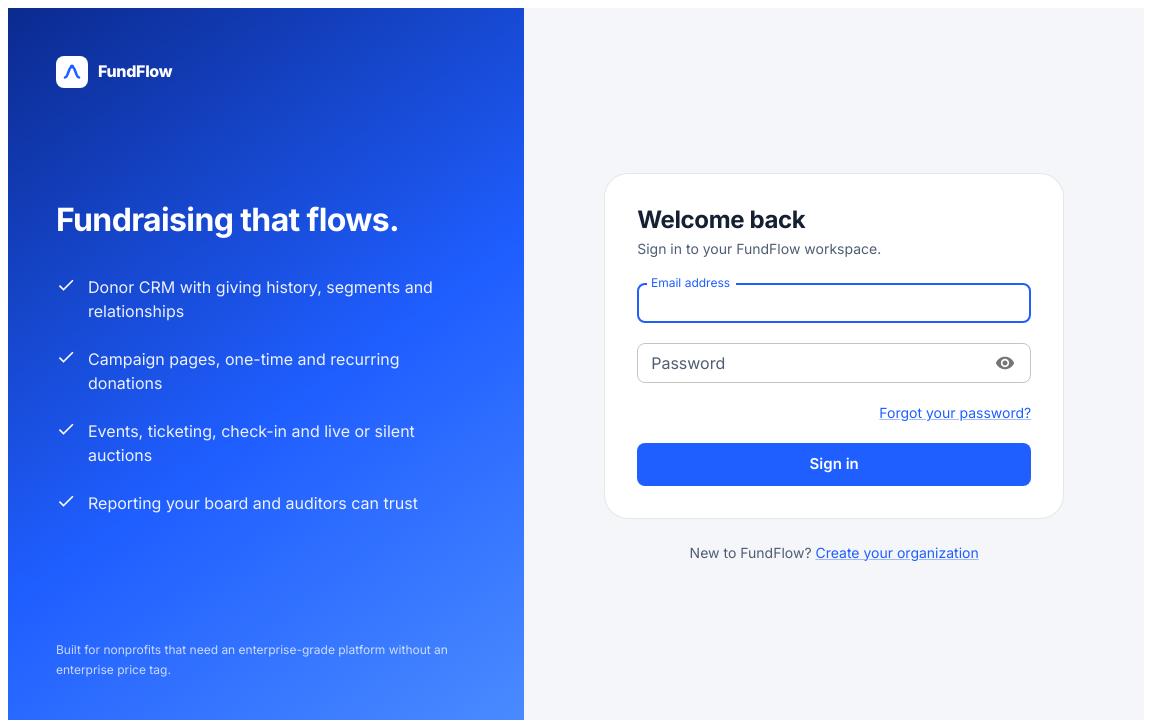
LoginPage › shows the server message for bad credentials and stays on the page
Step 1. Type "ada@hope.org" into the field labelled "Email address" → (834, 303), box 637,283 -> 1031,323
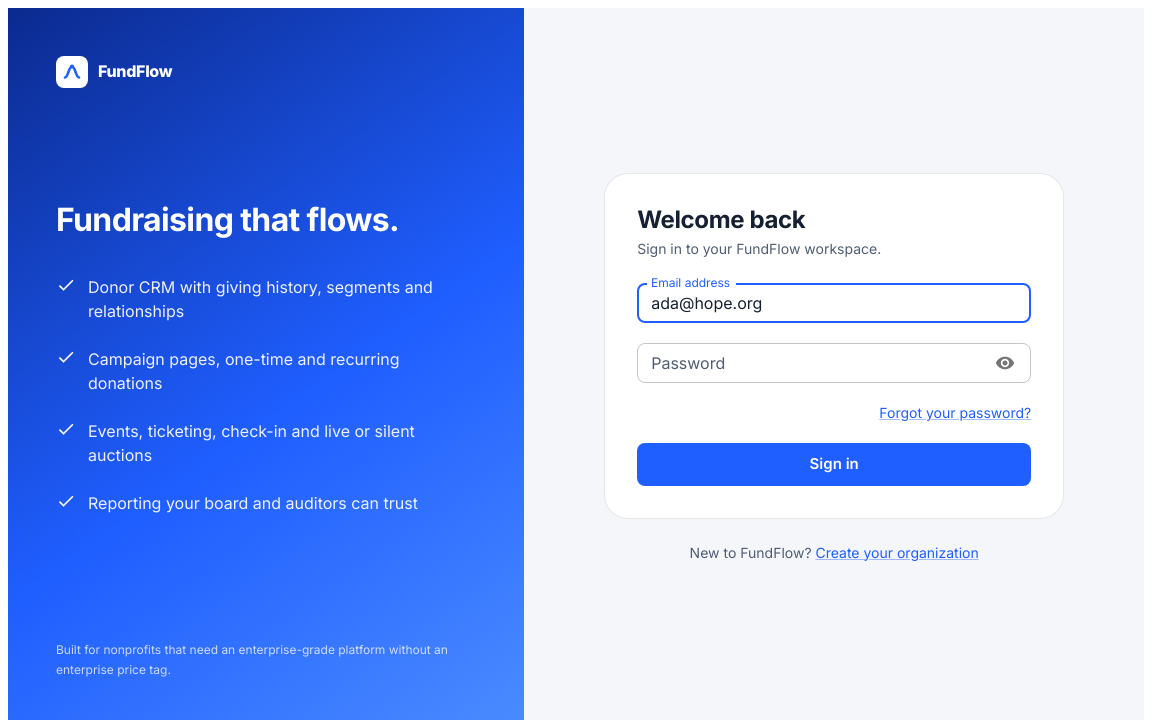
Step 2. Type "wrong-password" into the password field labelled "Password" → (810, 363), box 637,343 -> 982,383
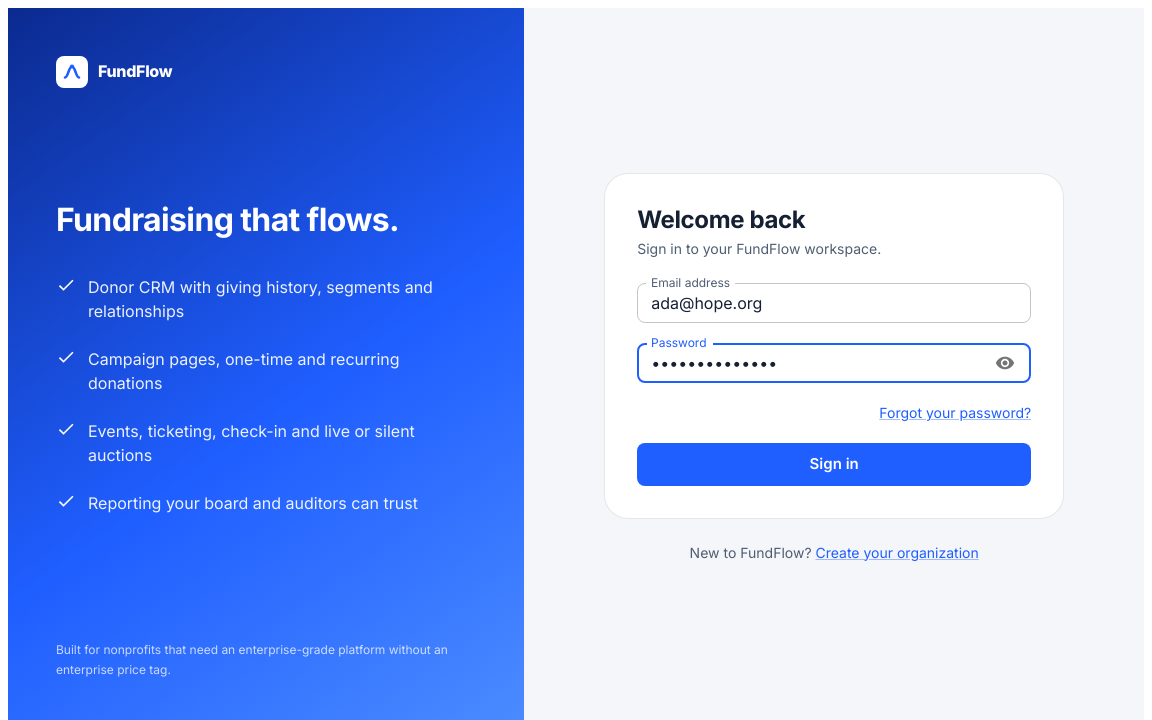
Step 3. Click the button "Sign in" → (834, 464), box 637,443 -> 1031,486
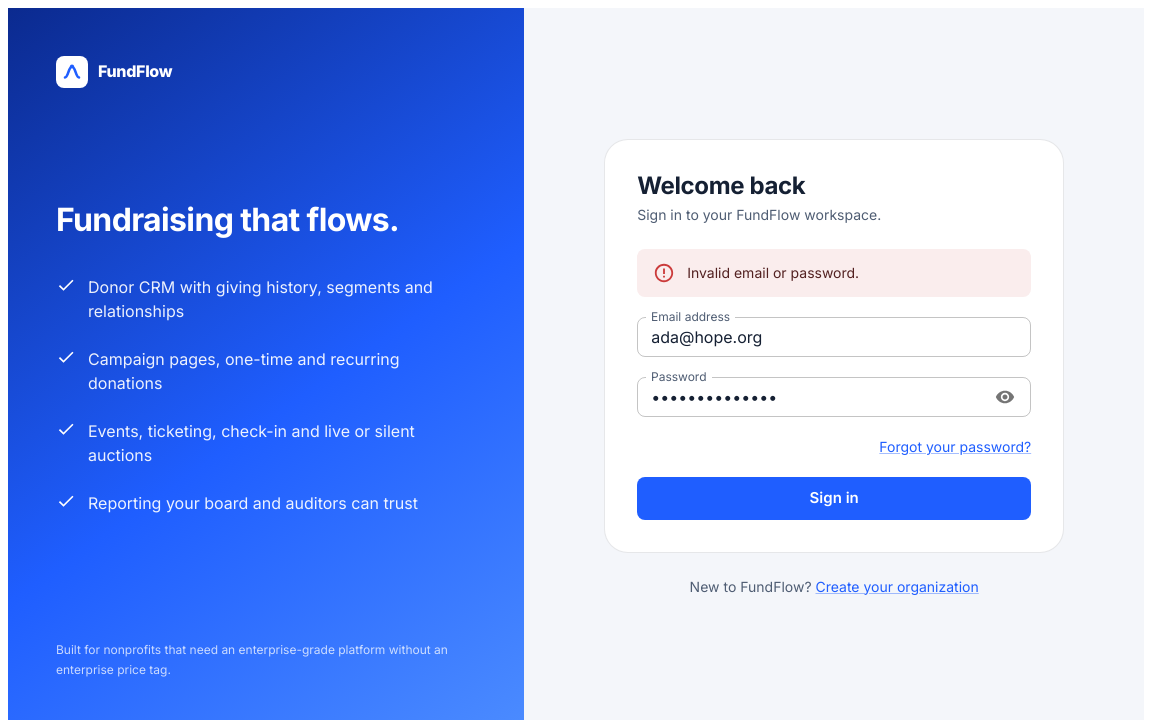
Check: the message reads "Invalid email or password.", box 687,264 -> 859,281
